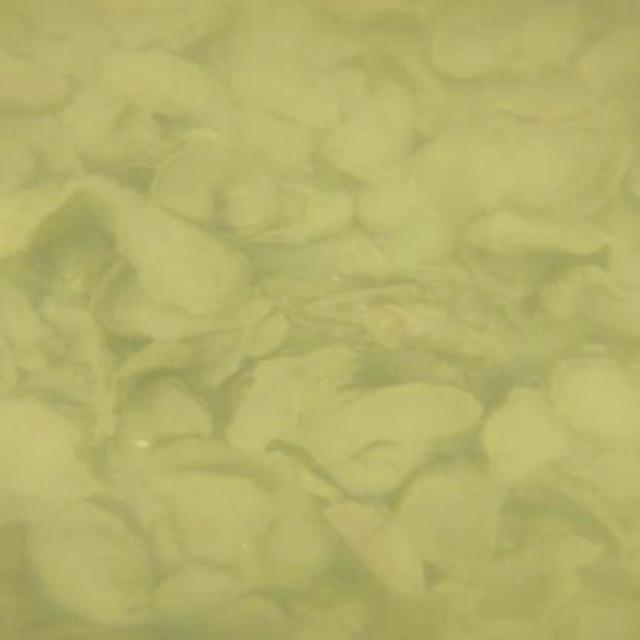Oyster-Closed: (74, 176, 252, 312), (296, 383, 481, 475), (30, 501, 154, 624), (400, 461, 517, 576), (107, 278, 281, 337), (450, 556, 578, 635), (0, 403, 103, 501), (322, 503, 424, 601), (361, 325, 509, 392), (483, 386, 580, 486), (163, 468, 273, 556), (103, 49, 235, 119), (506, 119, 601, 212), (548, 355, 639, 450), (122, 371, 220, 453), (325, 88, 410, 182), (158, 131, 242, 225), (458, 233, 562, 307), (462, 209, 614, 256), (103, 0, 231, 51), (265, 510, 344, 590), (432, 14, 520, 81), (299, 282, 424, 327), (157, 562, 238, 628), (335, 444, 426, 501), (259, 193, 356, 243), (0, 48, 73, 112), (92, 258, 146, 338), (293, 595, 376, 640), (224, 161, 275, 234), (186, 329, 246, 388), (218, 596, 288, 640), (353, 188, 409, 232)
Oyster-Open: (219, 360, 299, 454), (243, 433, 351, 502), (1, 182, 84, 258)
